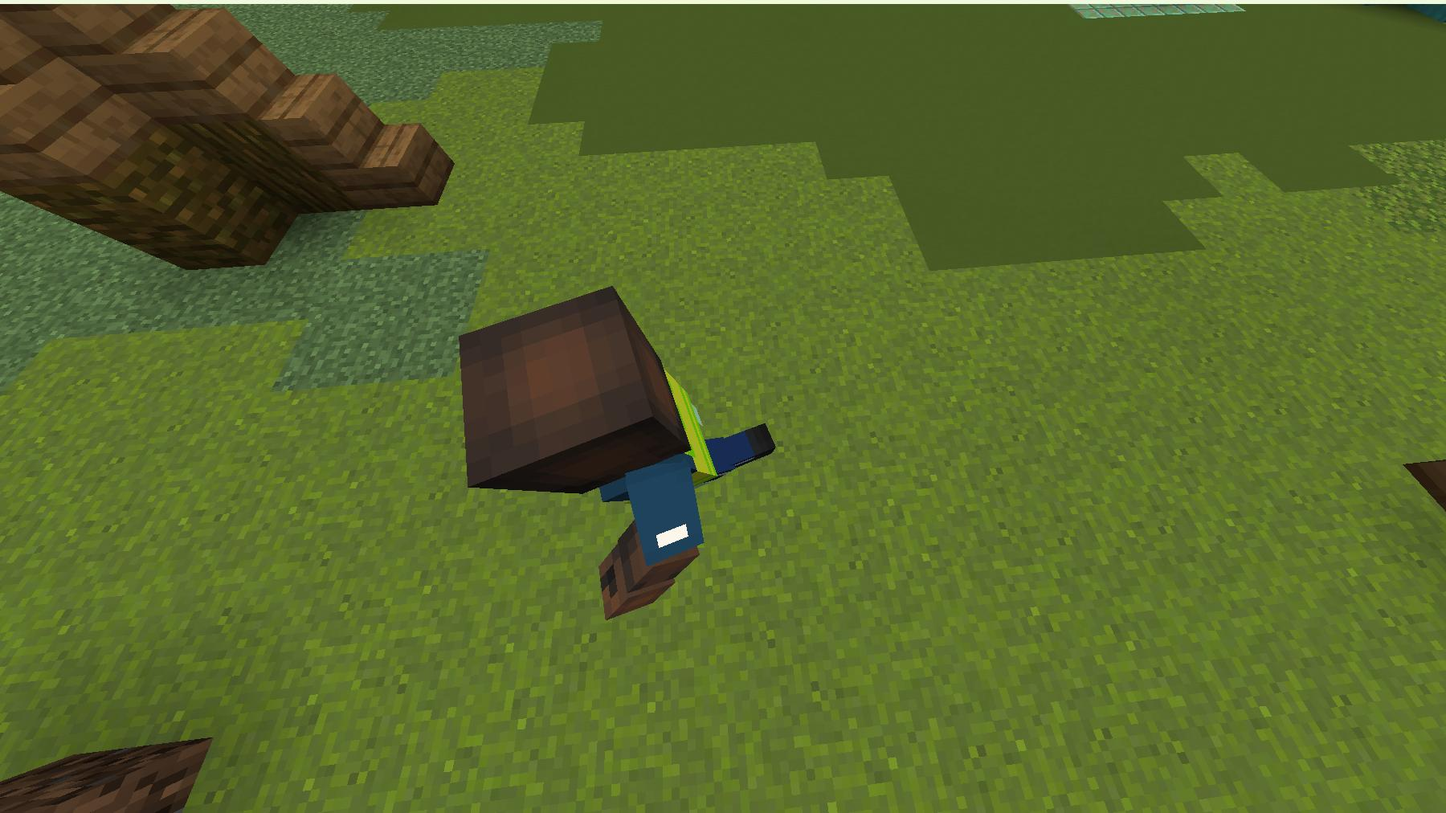Guardian: (460, 287, 775, 619)
